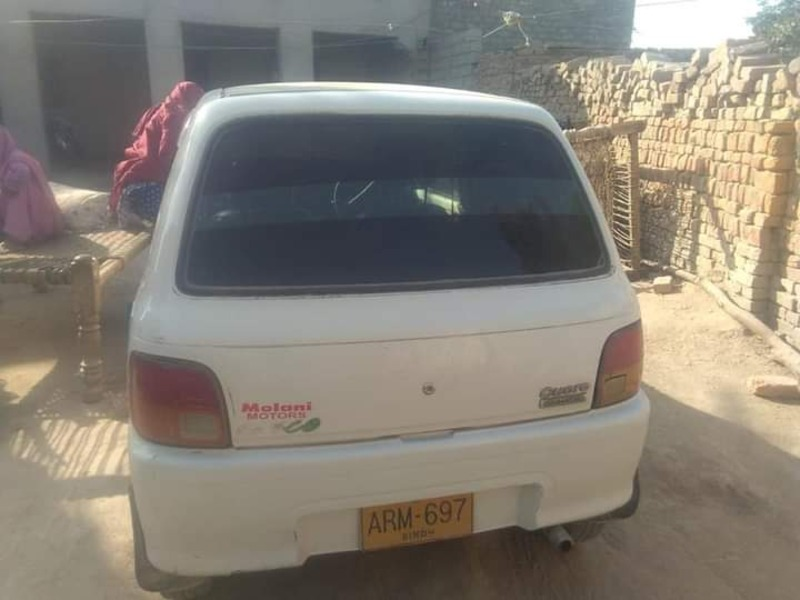License Plate: (358, 492, 476, 555)
